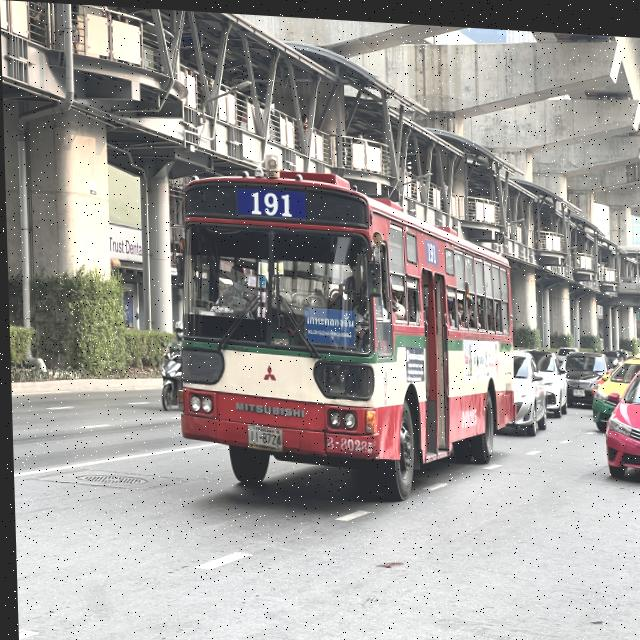BMTA-bus: (167, 139, 519, 507)
Bus-Line-Number: (245, 181, 297, 219)
Destination-Sign-Normal: (302, 303, 356, 347)
